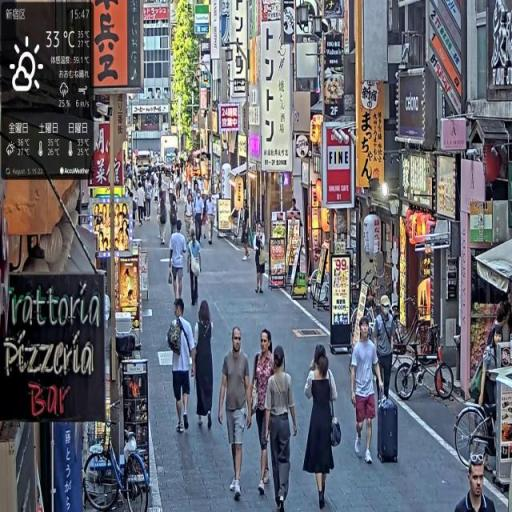person: (303, 346, 341, 512), (219, 326, 254, 502), (263, 346, 300, 512), (351, 317, 383, 467), (251, 327, 277, 500), (168, 296, 197, 437), (193, 299, 217, 435), (371, 297, 397, 407), (455, 450, 495, 512), (169, 219, 189, 310), (188, 232, 204, 312), (255, 228, 266, 297), (159, 192, 170, 247)
